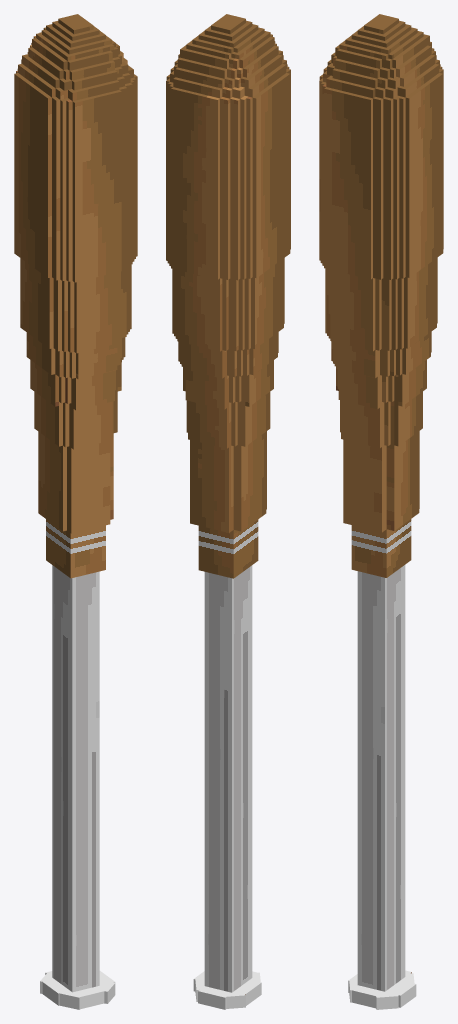
The model's file is taco2.gltf.
The picture shows the model from 3 angles, left to right: view 1: azimuth 30°, elevation 25°; view 2: azimuth 150°, elevation 25°; view 3: azimuth 330°, elevation 25°; orthographic projection.
Visible parts, largest first — view 1: cube (×48); view 2: cube (×42); view 3: cube (×44).
Boxes of the visible parts, bbox=[...] form: cube (×48): bbox=[14, 15, 137, 1009]; cube (×42): bbox=[166, 14, 290, 1009]; cube (×44): bbox=[319, 15, 443, 1009].
Size of the model in its own units: 1.44 by 14.88 by 1.56.
1 material, 1 textured.
